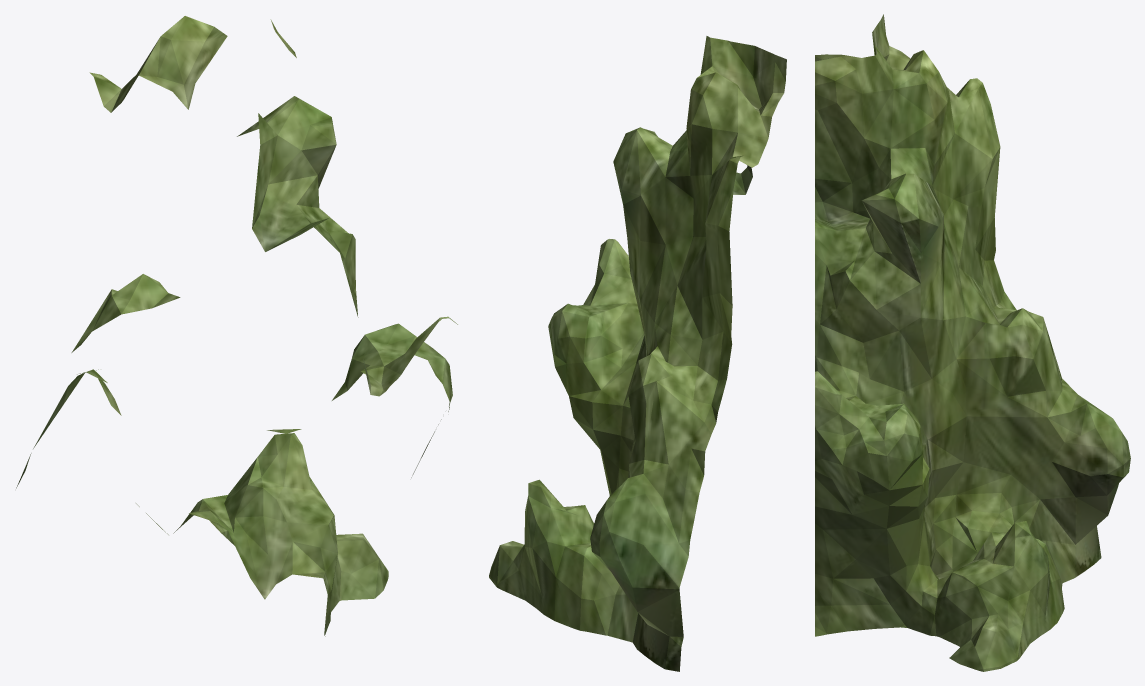
3 renders of one model, left to right at view 1: azimuth 30°, elevation 25°; view 2: azimuth 150°, elevation 25°; view 3: azimuth 270°, elevation 25°, orthographic. The views are drawn at different scales.
Size of the model in its own units: 2.85 by 5.9 by 3.14.
2 materials, 2 textured.
